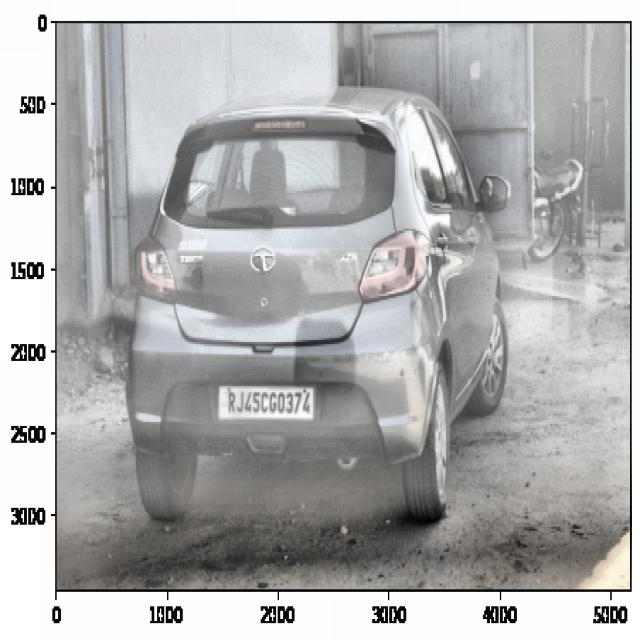license_plate: (223, 385, 314, 423)
